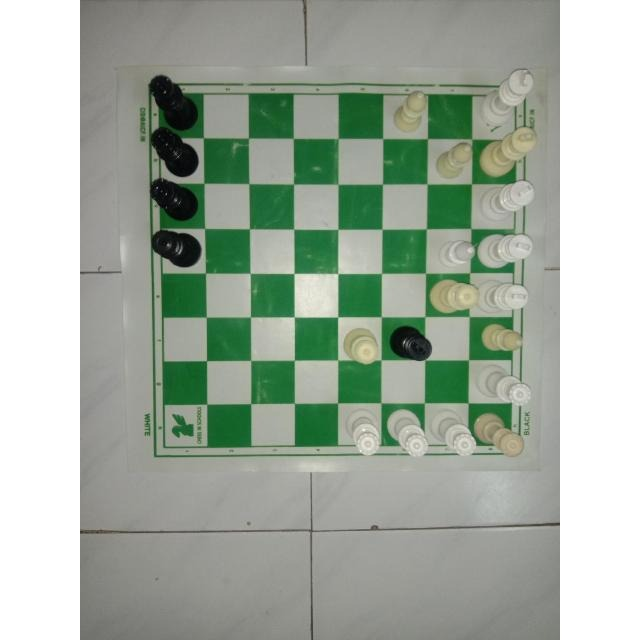black-king: (385, 320, 434, 368)
black-queen: (146, 71, 204, 131), (143, 128, 202, 180), (148, 229, 206, 273), (145, 177, 200, 223)
white-bishop: (388, 92, 430, 142), (431, 231, 479, 273), (475, 320, 527, 358), (434, 140, 475, 188)
white-king: (478, 126, 542, 182), (477, 65, 535, 126), (476, 180, 538, 228), (472, 273, 532, 314), (478, 227, 536, 269)
white-queen: (472, 360, 535, 408), (472, 408, 528, 460), (431, 408, 481, 460), (383, 406, 431, 460), (340, 404, 384, 459), (426, 276, 480, 315), (339, 322, 380, 368)
